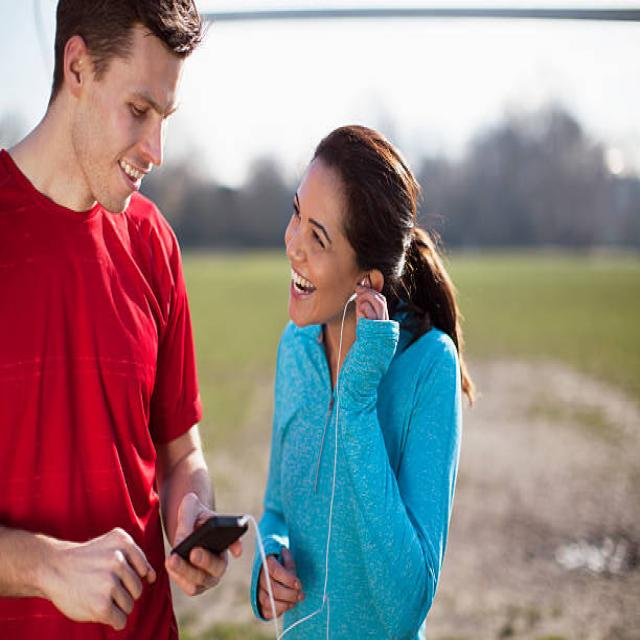Earphone: (236, 273, 366, 640)
